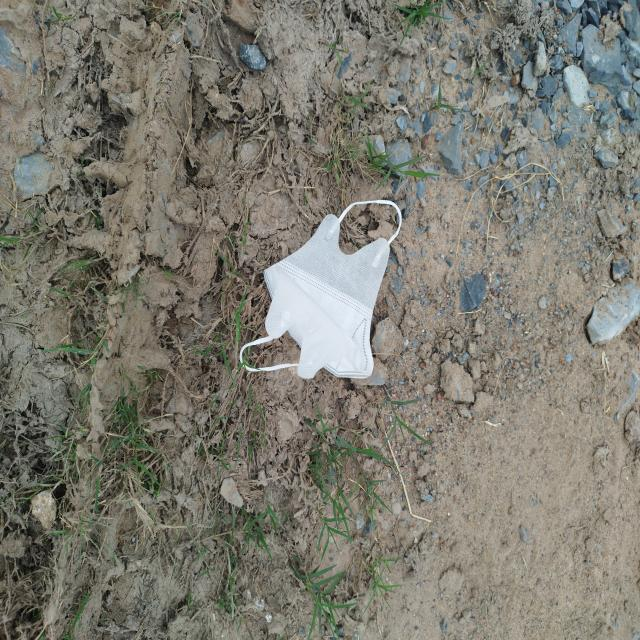mask: (240, 200, 402, 378)
